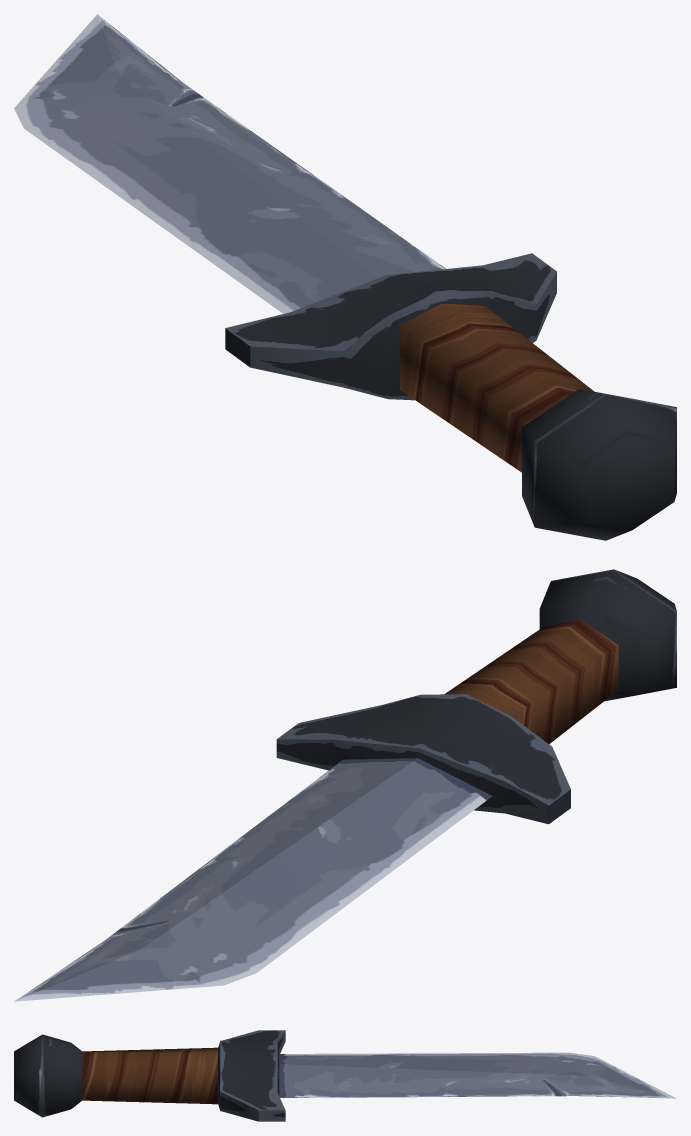
The model's file is SM_PROP_weapon_sword_dungeon_03.fbx.
3 views of the same model, one above another, from view 1: azimuth 30°, elevation 25°; view 2: azimuth 150°, elevation 25°; view 3: azimuth 270°, elevation 25° (orthographic). The views are drawn at different scales.
Parts seen in each view (by area): view 1: SM_PROP_weapon_sword_dungeon_03; view 2: SM_PROP_weapon_sword_dungeon_03; view 3: SM_PROP_weapon_sword_dungeon_03.
Boxes of the visible parts, <box> form: SM_PROP_weapon_sword_dungeon_03: <box>14,14,676,540</box>; SM_PROP_weapon_sword_dungeon_03: <box>14,569,676,1001</box>; SM_PROP_weapon_sword_dungeon_03: <box>14,1030,676,1121</box>.
Bounding box in the file's own units: 13.01 × 5.95 × 45.44.
